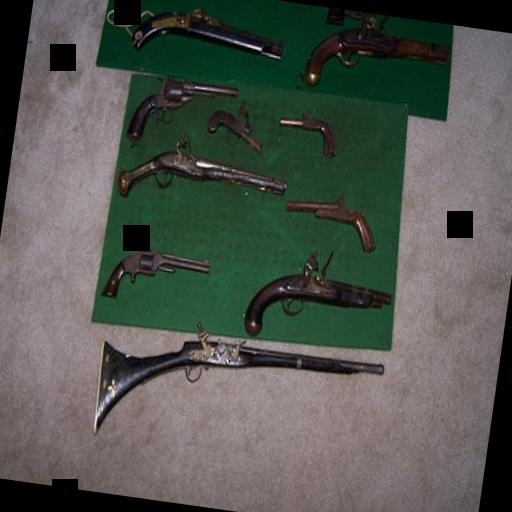Handgun: (238, 242, 402, 350), (116, 63, 238, 158), (98, 234, 210, 305), (278, 186, 381, 262), (272, 105, 340, 164), (204, 95, 264, 150)
